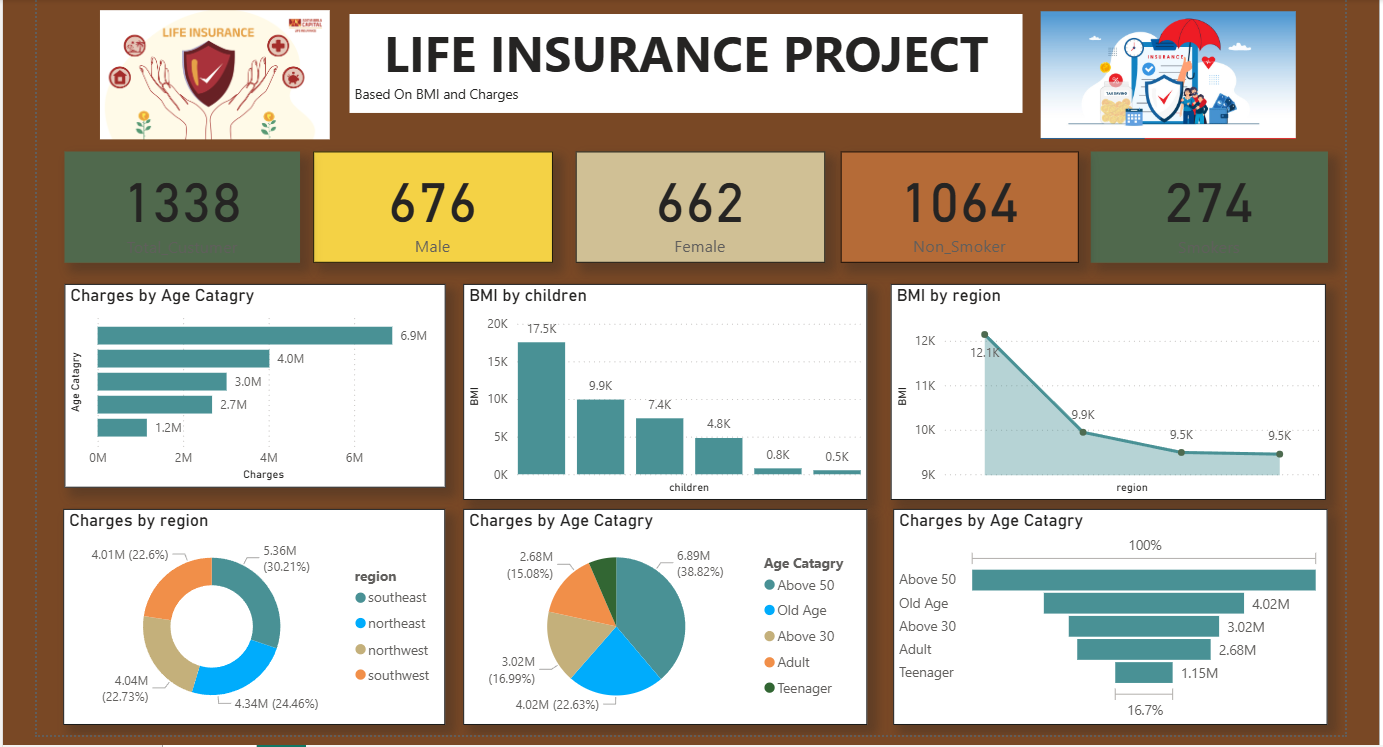

The page's visual inventory and layout, read from the dashboard file:
{"tool":"powerbi","page":{"name":"Page 1","canvas":[1280,720],"ordinal":0},"visuals":[{"type":"card","fields":{"Values":["insurance.Male"]},"box":[26.1,141.3,292.3,105.7],"z":0},{"type":"card","fields":{"Values":["insurance.Smoke."]},"box":[970.2,144.1,290.9,105.7],"z":1000},{"type":"card","fields":{"Values":["insurance.Female"]},"box":[337.6,144.1,301.9,105.7],"z":2000},{"type":"card","fields":{"Values":["insurance.Non_Smoker"]},"box":[650.3,141.2,304,106.2],"z":3000},{"type":"clusteredBarChart","fields":{"Category":["insurance.Age Catagry"],"Y":["Sum(insurance.charges)"]},"box":[26.5,278.7,372.8,199.1],"z":4000},{"type":"clusteredColumnChart","fields":{"Category":["insurance.children"],"Y":["Sum(insurance.bmi)"]},"box":[417.2,278.6,395.2,211.3],"z":5000},{"type":"lineChart","fields":{"Category":["insurance.region"],"Y":["Sum(insurance.bmi)"]},"box":[835.7,278.6,425.4,211.3],"z":6000},{"type":"donutChart","fields":{"Y":["Sum(insurance.charges)"],"Category":["insurance.region"]},"box":[26.1,499.5,373.2,211.3],"z":7000},{"type":"pieChart","fields":{"Category":["insurance.Age Catagry"],"Y":["Sum(insurance.charges)"]},"box":[417.2,499.5,395.2,211.3],"z":8000},{"type":"funnel","fields":{"Y":["Sum(insurance.charges)"],"Category":["insurance.Age Catagry"]},"box":[837.3,499.5,424.7,211.1],"z":9000},{"type":"textbox","box":[25.7,14.7,551.5,96.6],"z":9001}]}

Visuals, with their boxes in screenshot pixels (x1, y1, x2, y2):
card - insurance.Male: bbox(63, 141, 361, 249)
card - insurance.Smoke.: bbox(1027, 144, 1324, 251)
card - insurance.Female: bbox(381, 144, 689, 251)
card - insurance.Non_Smoker: bbox(700, 141, 1010, 249)
clusteredBarChart - insurance.Age Catagry x Sum(insurance.charges): bbox(63, 281, 444, 484)
clusteredColumnChart - insurance.children x Sum(insurance.bmi): bbox(462, 281, 866, 497)
lineChart - insurance.region x Sum(insurance.bmi): bbox(889, 281, 1324, 497)
donutChart - Sum(insurance.charges) x insurance.region: bbox(63, 506, 444, 722)
pieChart - insurance.Age Catagry x Sum(insurance.charges): bbox(462, 506, 866, 722)
funnel - Sum(insurance.charges) x insurance.Age Catagry: bbox(891, 506, 1325, 722)
textbox: bbox(62, 11, 625, 110)
